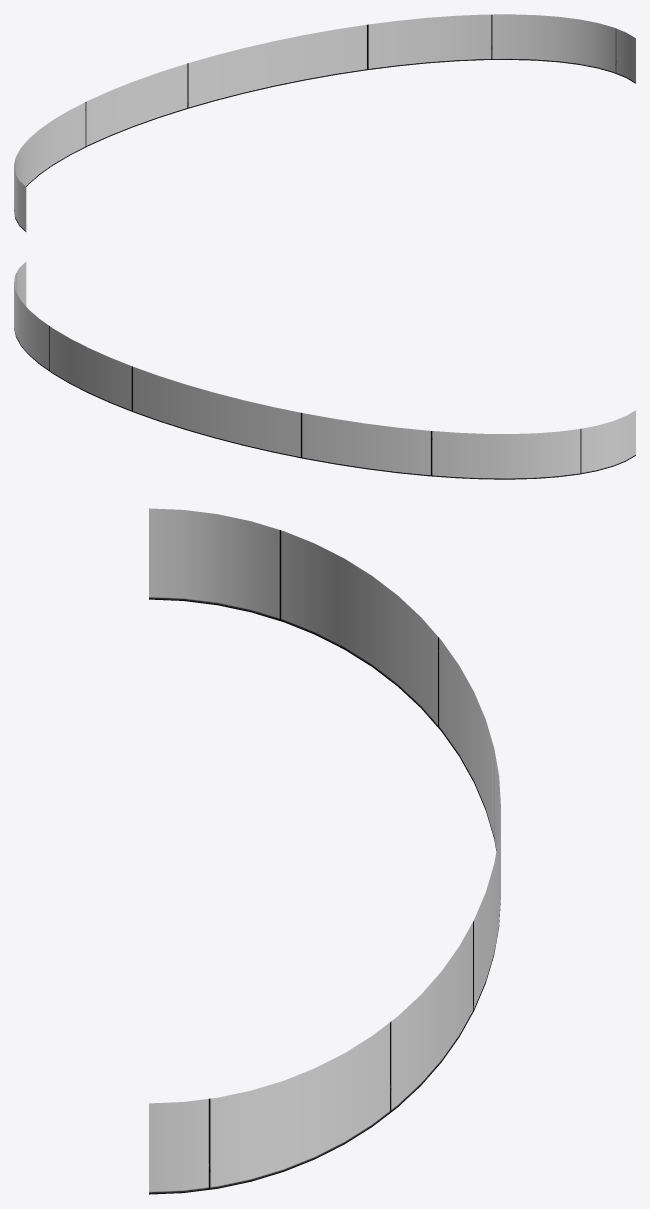
The model's file is Wall700x50xR175cm.FBX.
3 views of the same model, one above another, from view 1: azimuth 30°, elevation 25°; view 2: azimuth 150°, elevation 25°; view 3: azimuth 270°, elevation 25° (orthographic). The views are drawn at different scales.
Visible parts, largest first — view 1: Wall700x50xR175cm; view 2: Wall700x50xR175cm; view 3: Wall700x50xR175cm.
Boxes of the visible parts, box(x1,y1,x2,y2) form: Wall700x50xR175cm: box(14, 14, 635, 231); Wall700x50xR175cm: box(14, 262, 635, 479); Wall700x50xR175cm: box(149, 508, 500, 1194).
Size of the model in its own units: 700 by 50 by 175.
